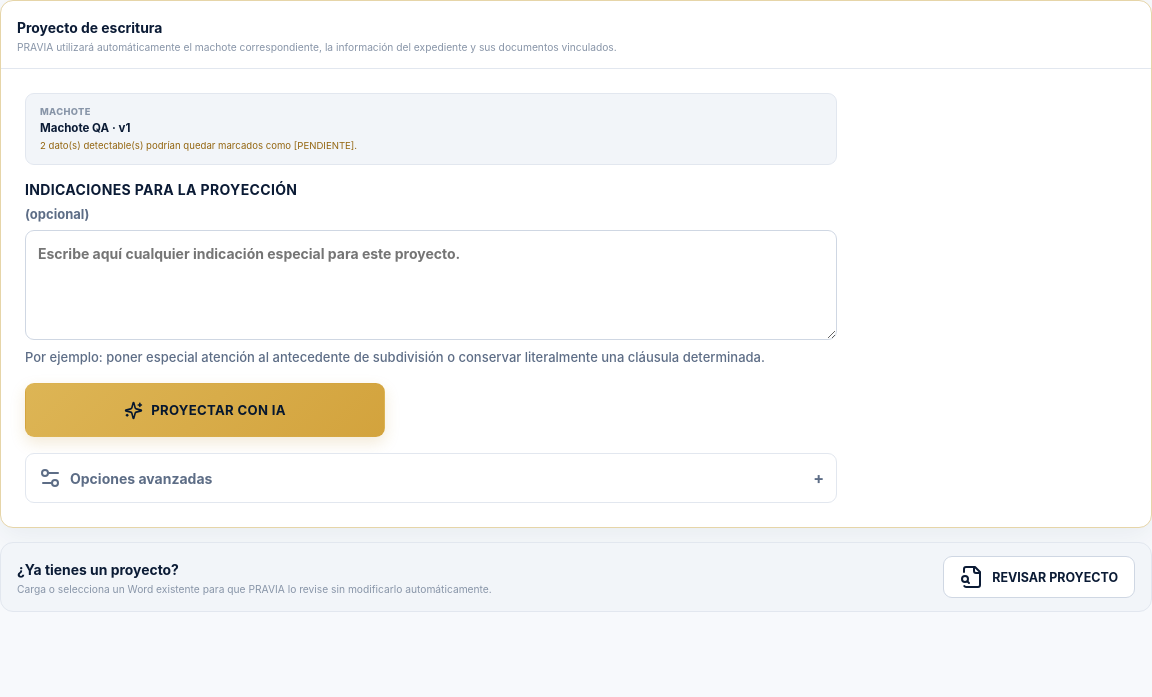
Test: EXP-010 · Proyecto y revisión notarial › presenta un solo CTA principal, mantiene avanzadas cerradas y propaga indicaciones a EXP-010
Expected: the number of buttons "PROYECTAR CON IA" is 1, [25, 383, 385, 437]
Expected: the text "Machote QA · v1" is shown, [40, 121, 130, 135]
Type "Revisa especialmente el antecedente." into the text box labelled "Indicaciones para la proyección" at (431, 285), box [25, 230, 837, 340]
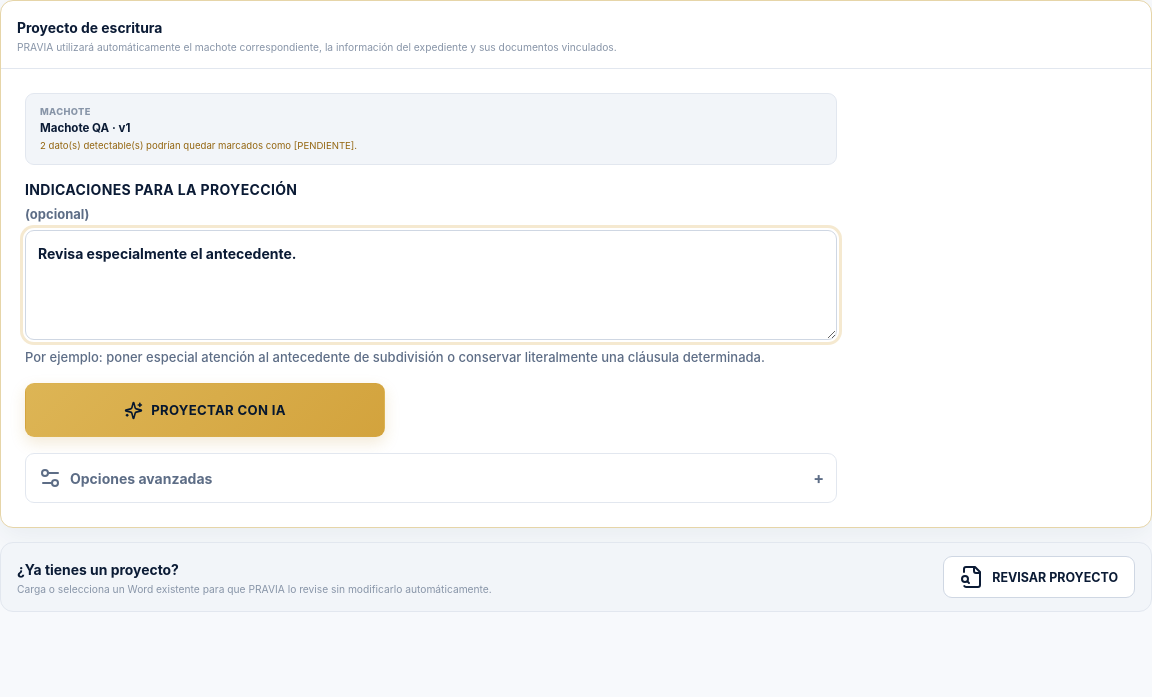
Click the button "PROYECTAR CON IA" at (205, 410), box [25, 383, 385, 437]
(page scrolled)
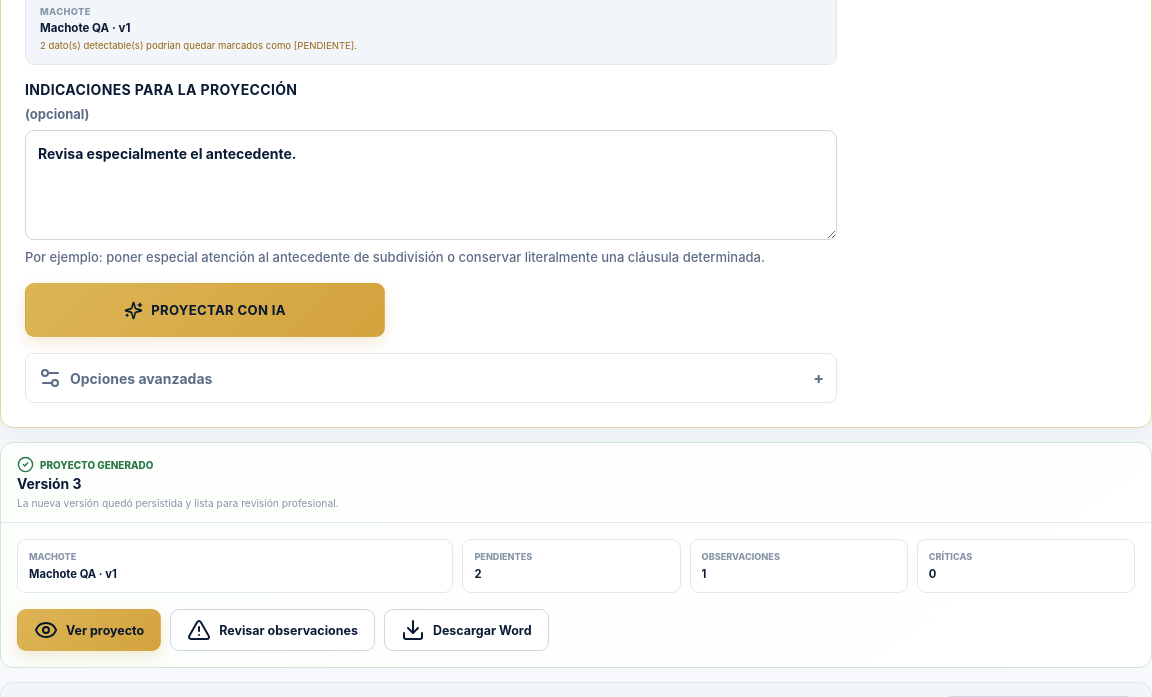
Result: the heading "Versión 3" is shown at [17, 476, 82, 492]
